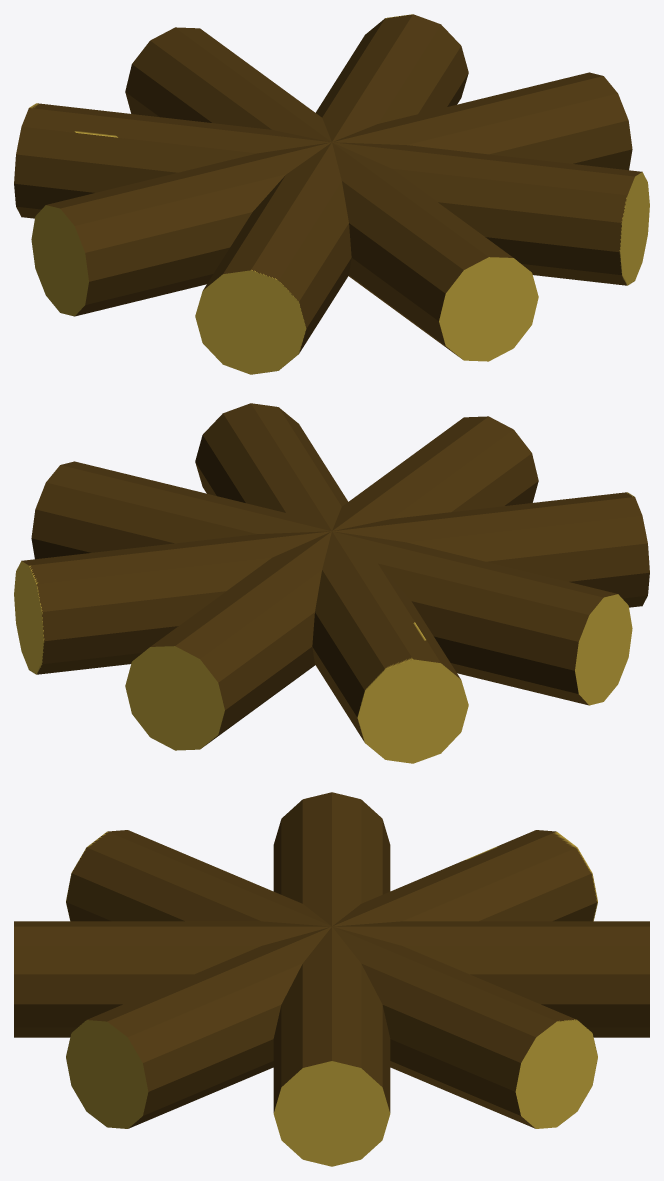
The model's file is CampFire.obj.
3 renders of one model, top to bottom at view 1: azimuth 30°, elevation 25°; view 2: azimuth 150°, elevation 25°; view 3: azimuth 270°, elevation 25°, orthographic.
Visible parts, largest first — view 1: Cylinder; view 2: Cylinder; view 3: Cylinder.
Boxes of the visible parts, bbox=[...] form: Cylinder: bbox=[14, 14, 649, 374]; Cylinder: bbox=[14, 403, 649, 763]; Cylinder: bbox=[14, 792, 649, 1166].
Size of the model in its own units: 163 by 30 by 163.
